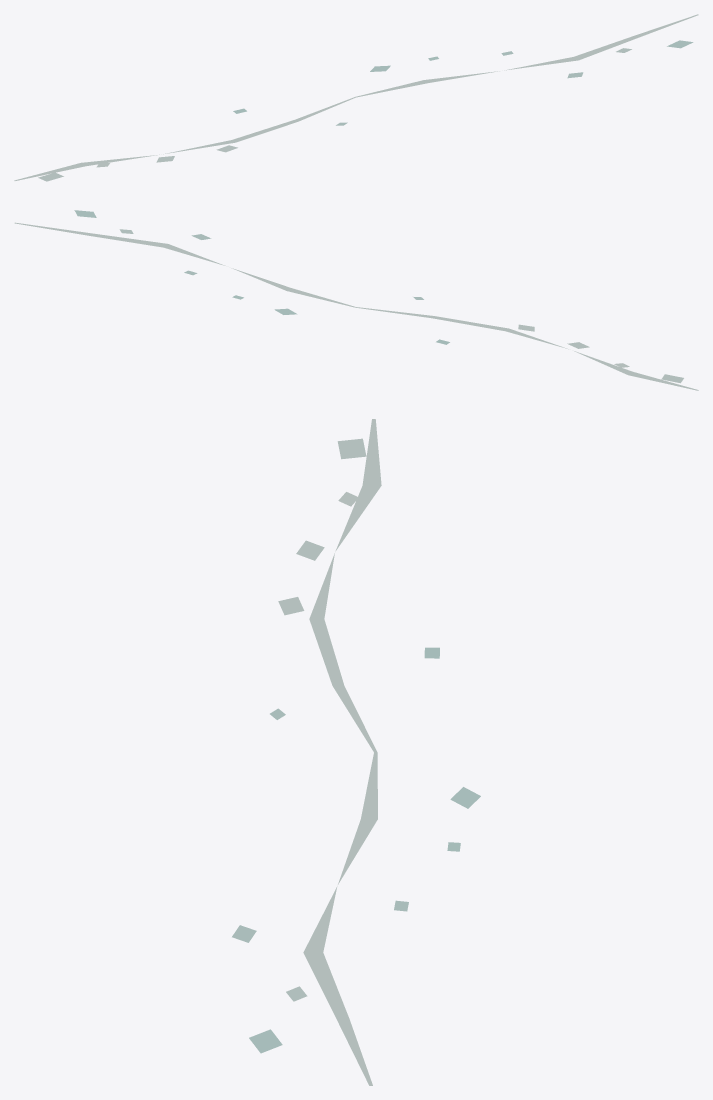
File: foam.lod1.glb
The picture shows the model from 3 angles, top to bottom: view 1: azimuth 30°, elevation 25°; view 2: azimuth 150°, elevation 25°; view 3: azimuth 270°, elevation 25°; orthographic projection. The views are drawn at different scales.
Size of the model in its own units: 7 by 0.00481 by 1.11.
